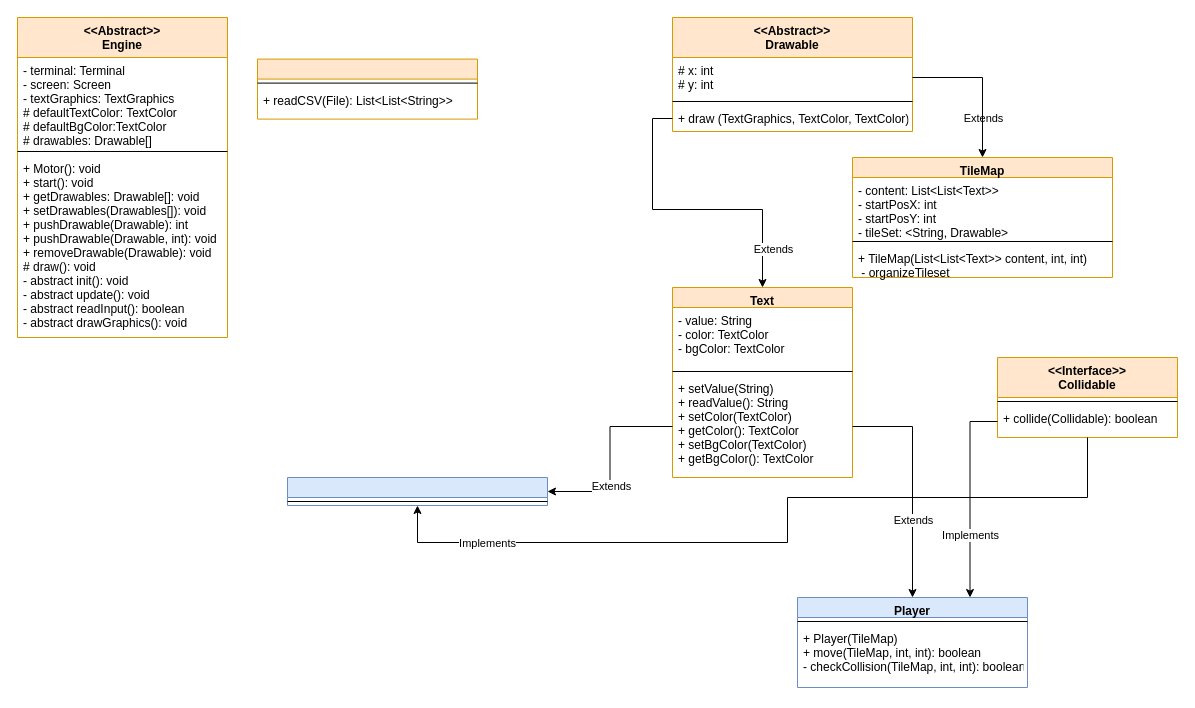
Some shapes in this 1195 by 708 pixel diagram are drawn without their labels. Here are the shapes that lost their labels. From the top down, the box of each, then its label:
(256, 58, 478, 119): CSVReader
(286, 476, 548, 506): Wall
